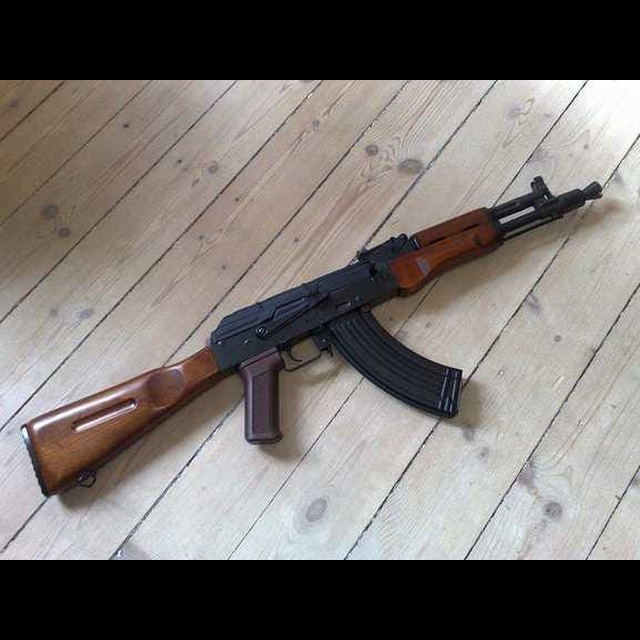AK47: (219, 174, 607, 444)
